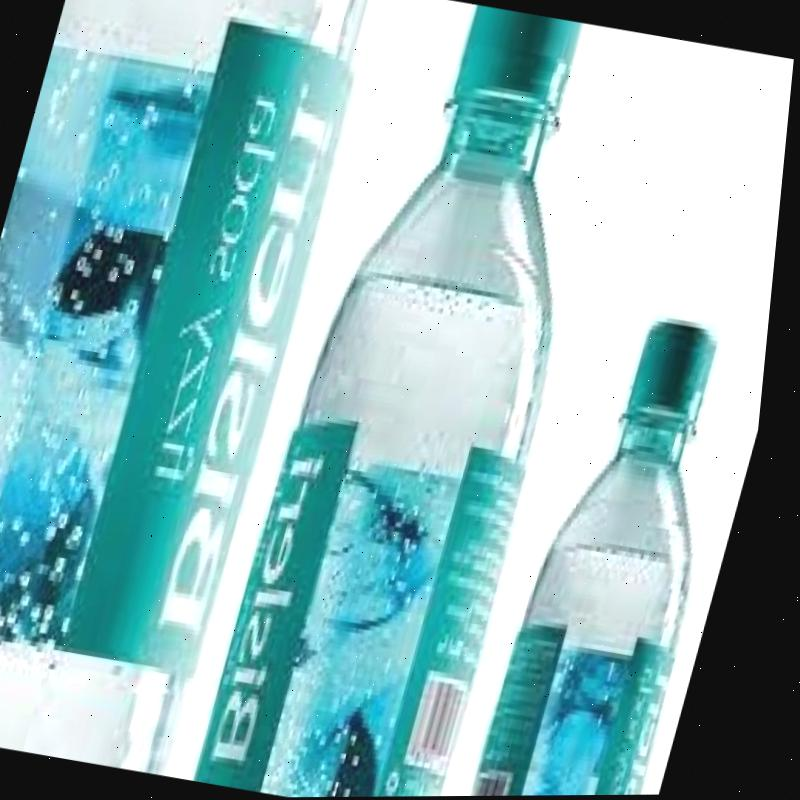botella: (205, 0, 652, 798), (0, 0, 380, 778), (479, 310, 773, 797)
